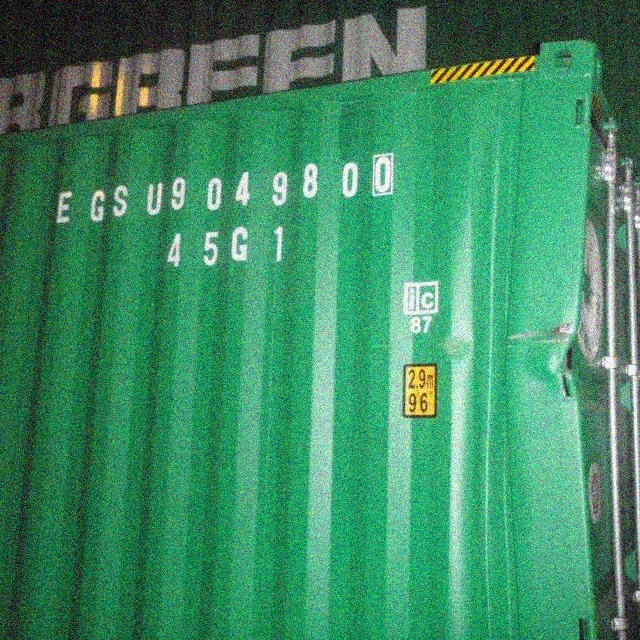Dent: (536, 226, 596, 513), (438, 336, 476, 366)
